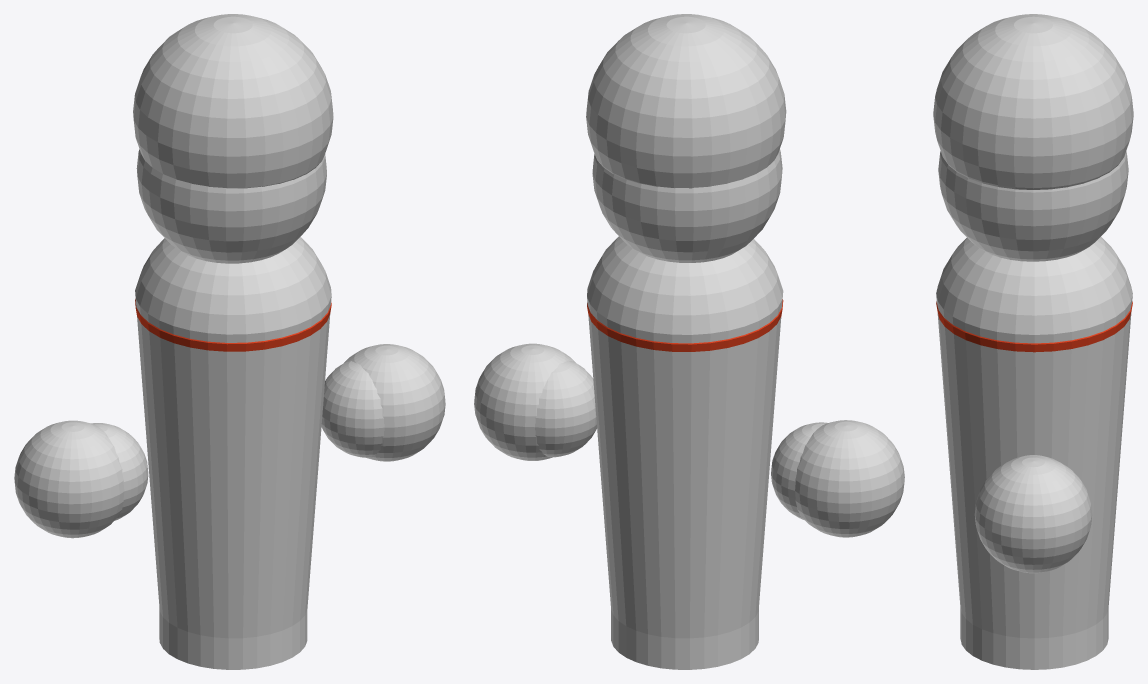
Rendered from malePlayer.fbx.
The picture shows the model from 3 angles, left to right: view 1: azimuth 30°, elevation 25°; view 2: azimuth 150°, elevation 25°; view 3: azimuth 270°, elevation 25°; orthographic projection.
Visible parts, largest first — view 1: Sphere, Sphere.001, Sphere.011, Sphere.002, Sphere.003, Sphere.010, Sphere.009, Sphere.004; view 2: Sphere, Sphere.001, Sphere.011, Sphere.002, Sphere.003, Sphere.010, Sphere.009, Sphere.004; view 3: Sphere, Sphere.001, Sphere.011, Sphere.003, Sphere.004.
Boxes of the visible parts, x1,y1,x2,y2 form: Sphere: (135,237,331,669); Sphere.001: (133,14,333,188); Sphere.011: (136,149,326,263); Sphere.002: (14,420,124,538); Sphere.003: (344,344,445,461); Sphere.010: (321,361,384,457); Sphere.009: (91,423,148,520); Sphere.004: (135,299,331,351); Sphere: (587,236,783,669); Sphere.001: (586,14,786,188); Sphere.011: (592,149,782,262); Sphere.002: (795,420,904,537); Sphere.003: (474,343,575,460); Sphere.010: (535,360,596,457); Sphere.009: (771,422,827,520); Sphere.004: (587,299,783,351); Sphere: (936,237,1132,669); Sphere.001: (933,14,1133,189); Sphere.011: (938,151,1128,261); Sphere.003: (974,456,1092,573); Sphere.004: (936,301,1132,352).
Bounding box in the file's own units: 478 × 676 × 200.
